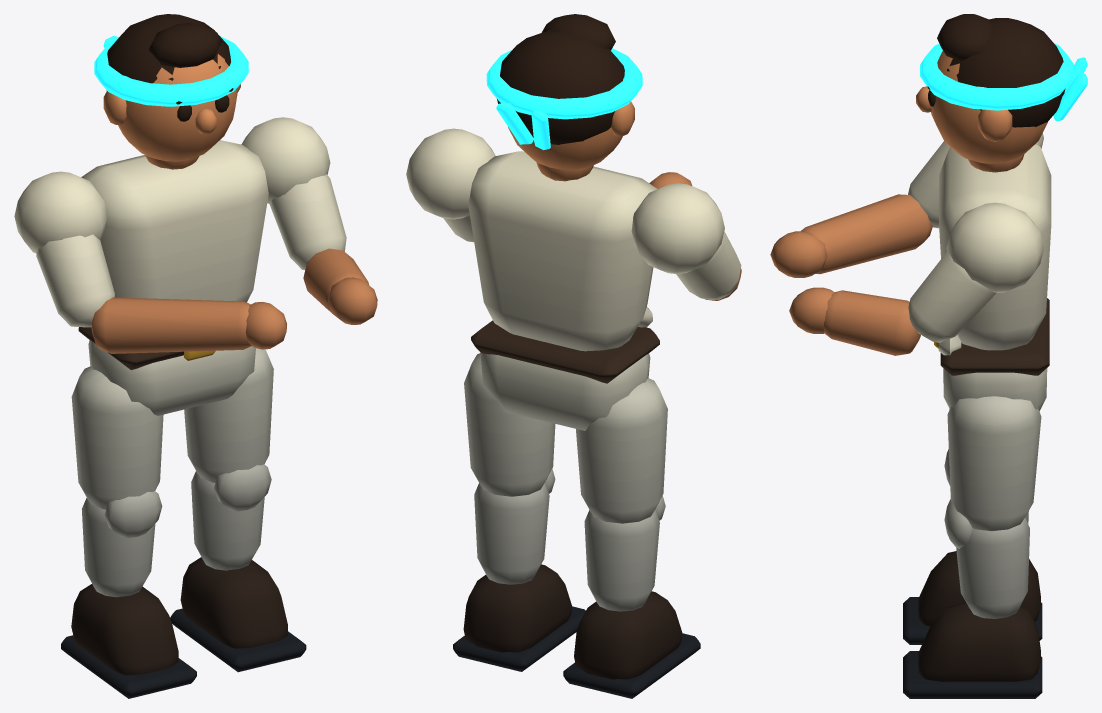
The model's file is captive.glb.
The picture shows the model from 3 angles, left to right: view 1: azimuth 30°, elevation 25°; view 2: azimuth 150°, elevation 25°; view 3: azimuth 270°, elevation 25°; orthographic projection.
Visible parts, largest first — view 1: Chest.002, Thigh.004, Forearm.004, Boot.005, Boot.004, Thigh.005, Pelvis.002, Head.002, Shoulder.004, Upper arm.004, Calf.004, Calf.005 (+14 smaller); view 2: Chest.002, Thigh.004, Hair.001, Thigh.005, Pelvis.002, Boot.005, Boot.004, Shoulder.004, Calf.004, Calf.005, Shoulder.005, Belt.002 (+10 smaller); view 3: Chest.002, Thigh.005, Boot.005, Shoulder.005, Hair.001, Forearm.004, Calf.005, Forearm.005, Upper arm.005, Head.002, Headband.001, Belt.002 (+11 smaller).
Boxes of the visible parts, bbox=[...] form: Chest.002: bbox=[81, 140, 268, 302]; Thigh.004: bbox=[71, 366, 163, 509]; Forearm.004: bbox=[91, 297, 251, 353]; Boot.005: bbox=[180, 557, 287, 648]; Boot.004: bbox=[71, 584, 178, 675]; Thigh.005: bbox=[184, 348, 273, 482]; Pelvis.002: bbox=[88, 340, 255, 415]; Head.002: bbox=[118, 54, 238, 161]; Shoulder.004: bbox=[14, 171, 106, 253]; Upper arm.004: bbox=[36, 234, 114, 327]; Calf.004: bbox=[81, 498, 155, 597]; Calf.005: bbox=[191, 471, 264, 570]; Chest.002: bbox=[468, 151, 657, 351]; Thigh.004: bbox=[576, 378, 667, 523]; Hair.001: bbox=[497, 30, 624, 144]; Thigh.005: bbox=[464, 353, 555, 496]; Pelvis.002: bbox=[481, 353, 650, 430]; Boot.005: bbox=[463, 564, 571, 652]; Boot.004: bbox=[574, 591, 682, 679]; Shoulder.004: bbox=[631, 183, 724, 274]; Calf.004: bbox=[584, 510, 659, 611]; Calf.005: bbox=[474, 483, 549, 584]; Shoulder.005: bbox=[406, 128, 495, 219]; Belt.002: bbox=[471, 320, 659, 383]; Chest.002: bbox=[939, 143, 1051, 350]; Thigh.005: bbox=[947, 396, 1041, 531]; Boot.005: bbox=[918, 603, 1040, 681]; Shoulder.005: bbox=[946, 202, 1043, 293]; Hair.001: bbox=[947, 18, 1065, 127]; Forearm.004: bbox=[801, 194, 932, 274]; Calf.005: bbox=[956, 517, 1029, 618]; Forearm.005: bbox=[823, 290, 920, 355]; Upper arm.005: bbox=[908, 251, 996, 342]; Head.002: bbox=[931, 51, 1047, 163]; Headband.001: bbox=[920, 43, 1073, 110]; Belt.002: bbox=[940, 298, 1049, 375].
Size of the model in its own units: 0.9412 by 1.87 by 0.8438.
7 materials, 6 textured.
